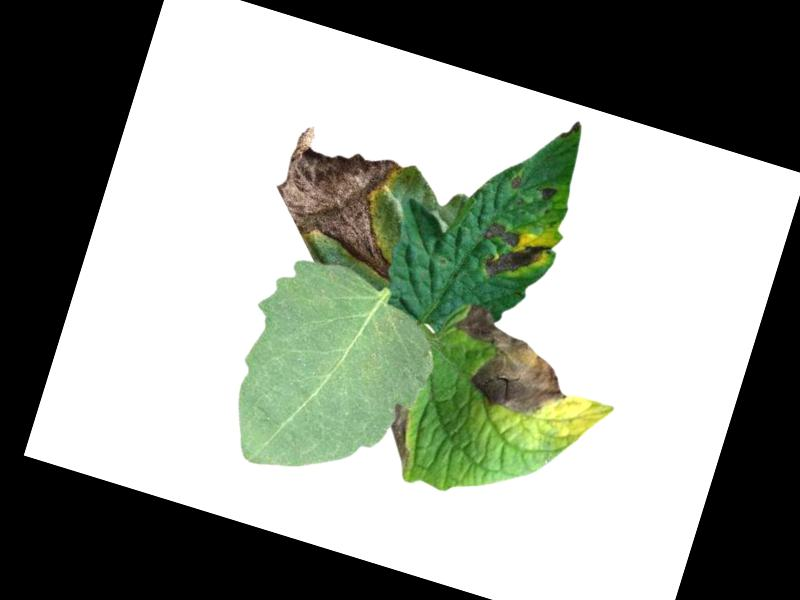Early_blight: (259, 122, 427, 282), (434, 298, 584, 428), (473, 219, 554, 292), (381, 402, 422, 465), (560, 117, 584, 142), (538, 184, 560, 206), (510, 176, 522, 190)
healthy: (211, 245, 457, 507)
